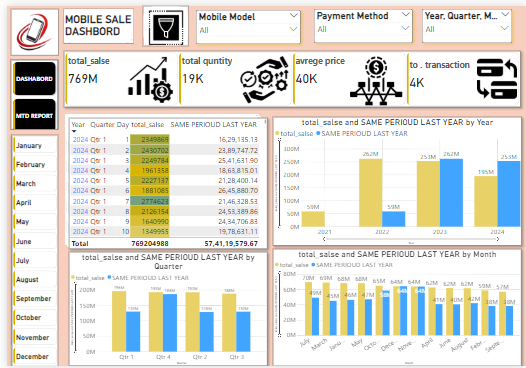

The dashboard page shown, as its layout file describes it:
{"tool":"powerbi","page":{"name":"SAME PIRIOUD  LAST YEAR","canvas":[2600,1800],"ordinal":2},"visuals":[{"type":"image","box":[19.8,15.6,238.1,232.4],"z":0},{"type":"shape","box":[20.6,267.6,238.2,347.1],"z":1000},{"type":"cardVisual","fields":{"Data":["mobile salse data.total_salse","mobile salse data.total quntity","mobile salse data.avrege price","mobile salse data.total transaction"]},"box":[286.7,226.7,2283.3,280],"z":2000},{"type":"slicer","fields":{"Values":["mobile salse data.Mobile Model"]},"box":[943.3,20,523.3,170],"z":3000},{"type":"slicer","fields":{"Values":["mobile salse data.Payment Method"]},"box":[1536.7,16.7,493.3,170],"z":4000},{"type":"slicer","fields":{"Values":["custom calender.date.Variation.Date Hierarchy.Year","custom calender.date.Variation.Date Hierarchy.Quarter","custom calender.date.Variation.Date Hierarchy.Month","custom calender.date.Variation.Date Hierarchy.Day"]},"box":[2076.7,16.7,450,170],"z":5000},{"type":"shape","box":[680,0,226.7,200],"z":6000},{"type":"image","box":[686.7,13.3,220,186.7],"z":7000},{"type":"shape","box":[286.7,13.3,346.7,173.3],"z":8000},{"type":"textbox","title":"MOBILE SALE                            DASHBORD","box":[286.7,16.7,346.7,166.7],"z":9000},{"type":"advancedSlicerVisual","title":" MONNTH","fields":{"Values":["custom calender.date.Variation.Date Hierarchy.Month"]},"box":[26.7,643.3,230,1156.7],"z":10000},{"type":"tableEx","fields":{"Values":["custom calender.date.Variation.Date Hierarchy.Year","custom calender.date.Variation.Date Hierarchy.Quarter","custom calender.date.Variation.Date Hierarchy.Day","mobile salse data.total_salse","mobile salse data.SAME PERIOUD LAST YEAR"]},"box":[288.5,542.3,969.2,653.8],"z":11000},{"type":"tableEx","fields":{"Values":["custom calender.date.Variation.Date Hierarchy.Year","custom calender.date.Variation.Date Hierarchy.Quarter","custom calender.date.Variation.Date Hierarchy.Day","mobile salse data.total_salse","mobile salse data.SAME PERIOUD LAST YEAR"]},"box":[298.5,552.3,969.2,653.8],"z":12000},{"type":"tableEx","fields":{"Values":["custom calender.date.Variation.Date Hierarchy.Year","custom calender.date.Variation.Date Hierarchy.Quarter","custom calender.date.Variation.Date Hierarchy.Day","mobile salse data.total_salse","mobile salse data.SAME PERIOUD LAST YEAR"]},"box":[307.7,561.5,992.3,653.8],"z":13000},{"type":"clusteredColumnChart","fields":{"Category":["custom calender.date.Variation.Date Hierarchy.Year","custom calender.date.Variation.Date Hierarchy.Quarter","custom calender.date.Variation.Date Hierarchy.Day"],"Y":["mobile salse data.total_salse","mobile salse data.SAME PERIOUD LAST YEAR"]},"box":[1330,553.3,1243.3,643.3],"z":14000},{"type":"clusteredColumnChart","fields":{"Category":["custom calender.date.Variation.Date Hierarchy.Month"],"Y":["mobile salse data.total_salse","mobile salse data.SAME PERIOUD LAST YEAR"]},"box":[1330.8,1215.4,1242.3,584.6],"z":15000},{"type":"clusteredColumnChart","fields":{"Y":["mobile salse data.total_salse","mobile salse data.SAME PERIOUD LAST YEAR"],"Category":["custom calender.date.Variation.Date Hierarchy.Quarter"]},"box":[307.7,1230.8,992.3,569.2],"z":16000},{"type":"pageNavigator","box":[20,268,233.3,346.7],"z":17000}]}

Visuals, with their boxes in screenshot pixels (x1, y1, x2, y2), scaled from the page's 2600x1800 canvas onto the 526x368 screenshot:
image: select_region(4, 3, 52, 51)
shape: select_region(4, 55, 52, 126)
cardVisual - mobile salse data.total_salse x mobile salse data.total quntity: select_region(58, 46, 520, 104)
slicer - mobile salse data.Mobile Model: select_region(191, 4, 297, 39)
slicer - mobile salse data.Payment Method: select_region(311, 3, 411, 38)
slicer - custom calender.date.Variation.Date Hierarchy.Year x custom calender.date.Variation.Date Hierarchy.Quarter: select_region(420, 3, 511, 38)
shape: select_region(138, 0, 183, 41)
image: select_region(139, 3, 183, 41)
shape: select_region(58, 3, 128, 38)
"MOBILE SALE                            DASHBORD" textbox: select_region(58, 3, 128, 37)
" MONNTH" advancedSlicerVisual: select_region(5, 132, 52, 367)
tableEx - custom calender.date.Variation.Date Hierarchy.Year x custom calender.date.Variation.Date Hierarchy.Quarter: select_region(58, 111, 254, 245)
tableEx - custom calender.date.Variation.Date Hierarchy.Year x custom calender.date.Variation.Date Hierarchy.Quarter: select_region(60, 113, 256, 247)
tableEx - custom calender.date.Variation.Date Hierarchy.Year x custom calender.date.Variation.Date Hierarchy.Quarter: select_region(62, 115, 263, 248)
clusteredColumnChart - custom calender.date.Variation.Date Hierarchy.Year x custom calender.date.Variation.Date Hierarchy.Quarter: select_region(269, 113, 521, 245)
clusteredColumnChart - custom calender.date.Variation.Date Hierarchy.Month x mobile salse data.total_salse: select_region(269, 248, 521, 367)
clusteredColumnChart - mobile salse data.total_salse x mobile salse data.SAME PERIOUD LAST YEAR: select_region(62, 252, 263, 367)
pageNavigator: select_region(4, 55, 51, 126)
